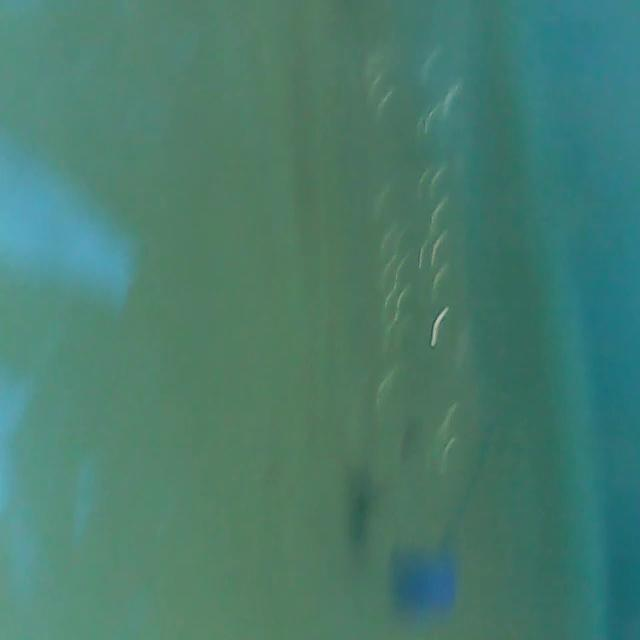plastic bottle: (338, 2, 502, 626)
